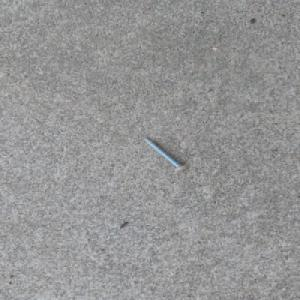Screw: (143, 136, 189, 172)
